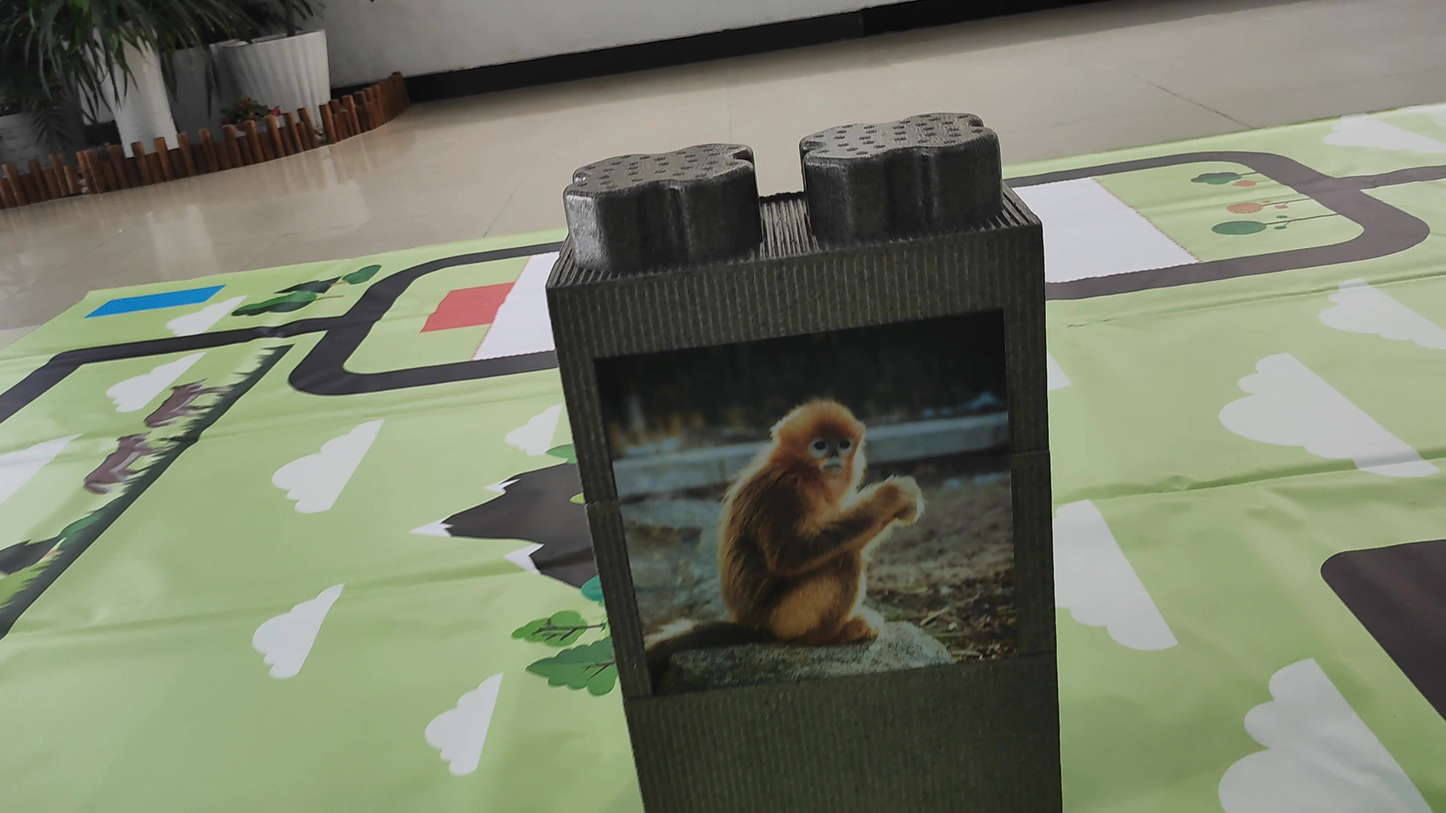monkey: (645, 367, 956, 651)
